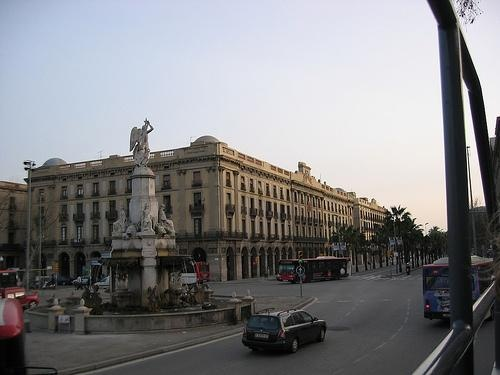bus: (422, 255, 493, 322), (277, 259, 351, 284)
car: (243, 307, 328, 356), (1, 287, 41, 315)
